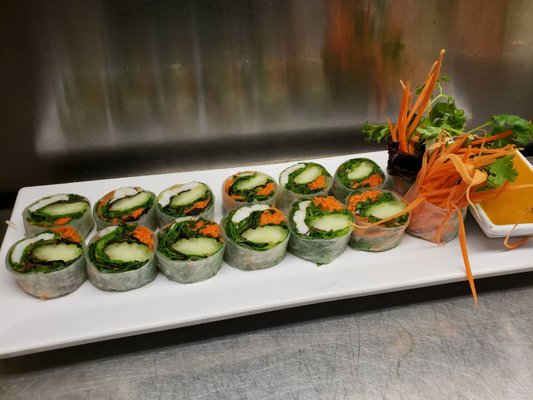soup: (287, 195, 356, 266)
sushi: (155, 217, 225, 284), (346, 189, 411, 253), (275, 161, 335, 215), (155, 181, 215, 228), (220, 170, 277, 213)
